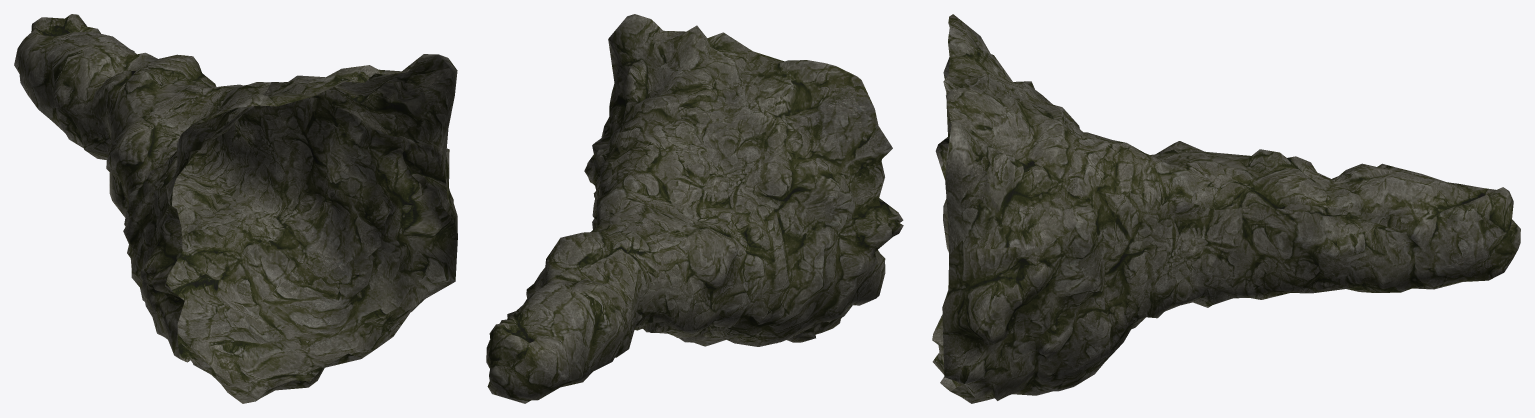
File: TI_Cliff_01_c.fbx
The picture shows the model from 3 angles, left to right: view 1: azimuth 30°, elevation 25°; view 2: azimuth 150°, elevation 25°; view 3: azimuth 270°, elevation 25°; orthographic projection. The views are drawn at different scales.
Visible parts, largest first — view 1: TI_Cliff_01_c; view 2: TI_Cliff_01_c; view 3: TI_Cliff_01_c.
Part boxes in pixels (x1,y1,x2,y2): TI_Cliff_01_c: (14, 14, 457, 403); TI_Cliff_01_c: (486, 14, 903, 403); TI_Cliff_01_c: (932, 14, 1520, 403).
Size of the model in its own units: 10.72 by 10.08 by 16.48.
